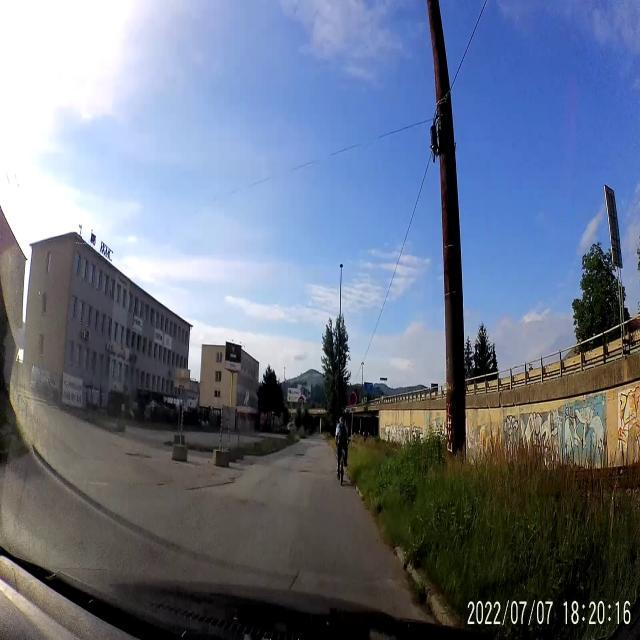Pothole: (124, 448, 153, 464), (292, 449, 308, 462)
